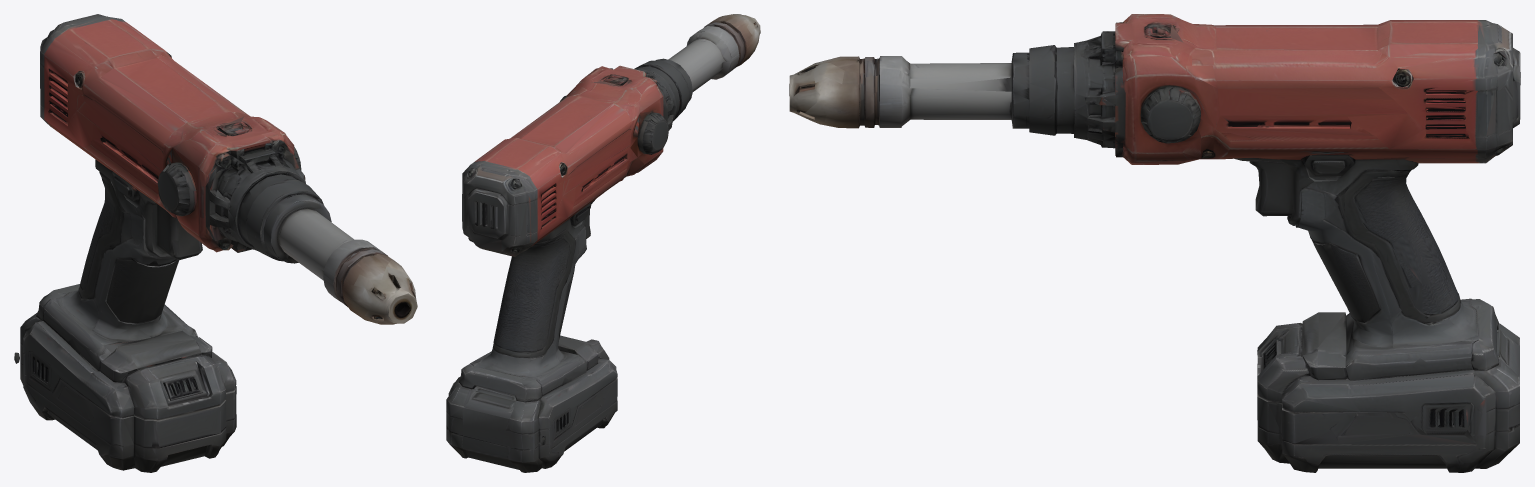
File: Asset_05_LOD1.fbx
The picture shows the model from 3 angles, left to right: view 1: azimuth 30°, elevation 25°; view 2: azimuth 150°, elevation 25°; view 3: azimuth 270°, elevation 25°; orthographic projection. The views are drawn at different scales.
Visible parts, largest first — view 1: Asset_05_LOD1; view 2: Asset_05_LOD1; view 3: Asset_05_LOD1.
Boxes of the visible parts, x1,y1,x2,y2 form: Asset_05_LOD1: [14, 14, 417, 472]; Asset_05_LOD1: [446, 14, 760, 472]; Asset_05_LOD1: [789, 14, 1520, 472].
Size of the model in its own units: 0.0765 by 0.2123 by 0.3399.
1 material, 1 textured.
